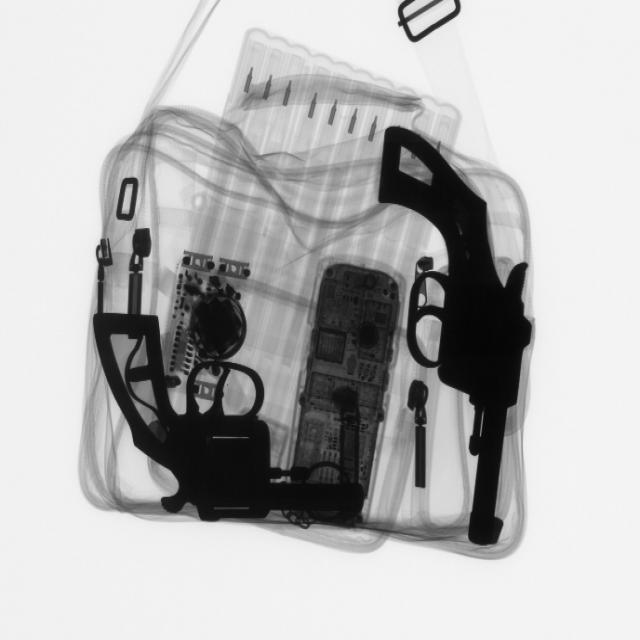GUN: (390, 127, 541, 561), (100, 306, 369, 528)
